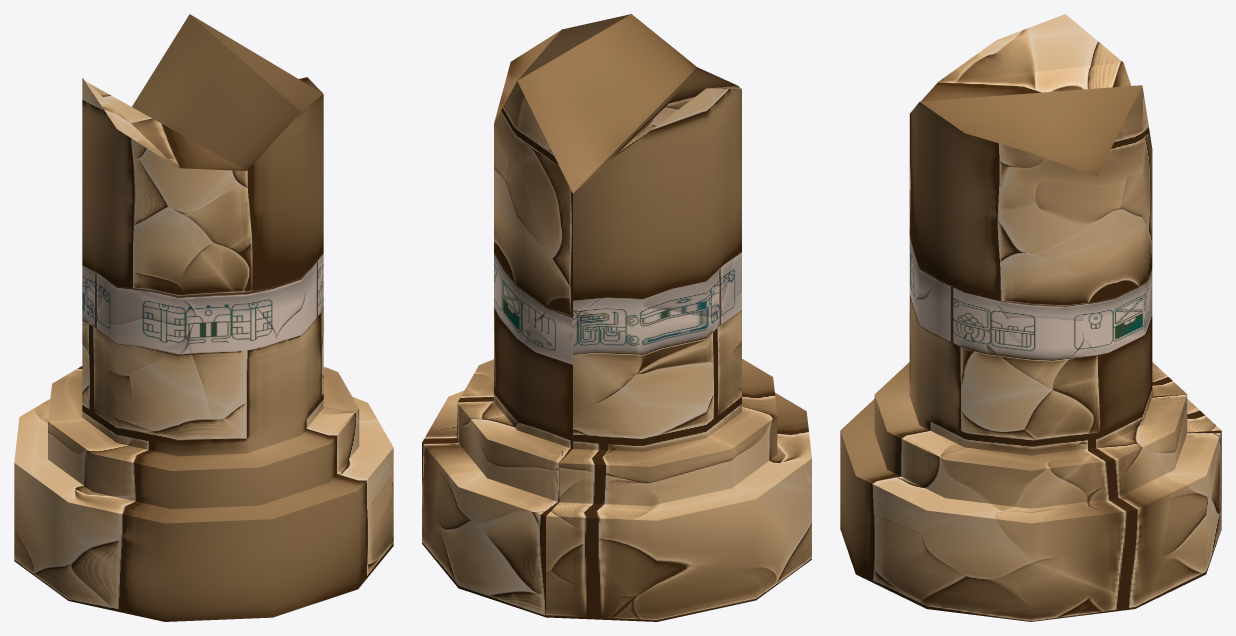
Rendered from Pillier Cassé.fbx.
3 views of the same model, side by side, from view 1: azimuth 30°, elevation 25°; view 2: azimuth 150°, elevation 25°; view 3: azimuth 270°, elevation 25° (orthographic). The views are drawn at different scales.
Parts seen in each view (by area): view 1: Cylinder001; view 2: Cylinder001; view 3: Cylinder001.
Boxes of the visible parts, <box> form: Cylinder001: <box>14,14,393,621</box>; Cylinder001: <box>422,14,811,621</box>; Cylinder001: <box>840,14,1221,621</box>.
Size of the model in its own units: 0.7934 by 0.8016 by 1.11.
